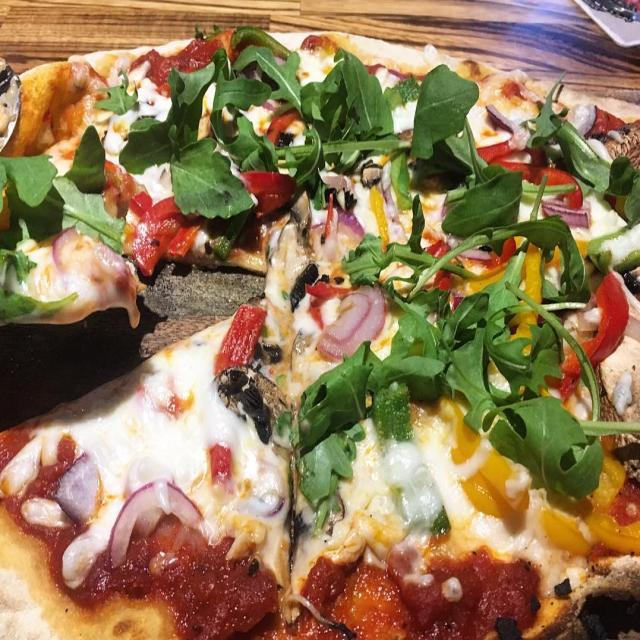mushrooms: (222, 363, 296, 444)
peppers: (438, 399, 536, 529), (544, 442, 640, 566), (565, 272, 629, 385), (480, 158, 589, 208), (132, 196, 196, 271), (514, 224, 540, 376), (239, 163, 299, 217), (219, 305, 261, 375), (361, 181, 391, 255), (207, 432, 242, 490), (470, 134, 524, 170)
pizza: (0, 28, 640, 640)
